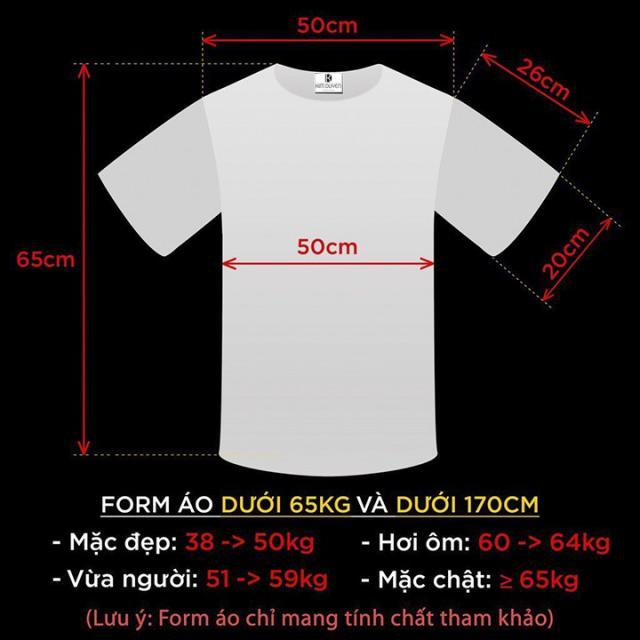Shirt: (95, 58, 561, 480)
